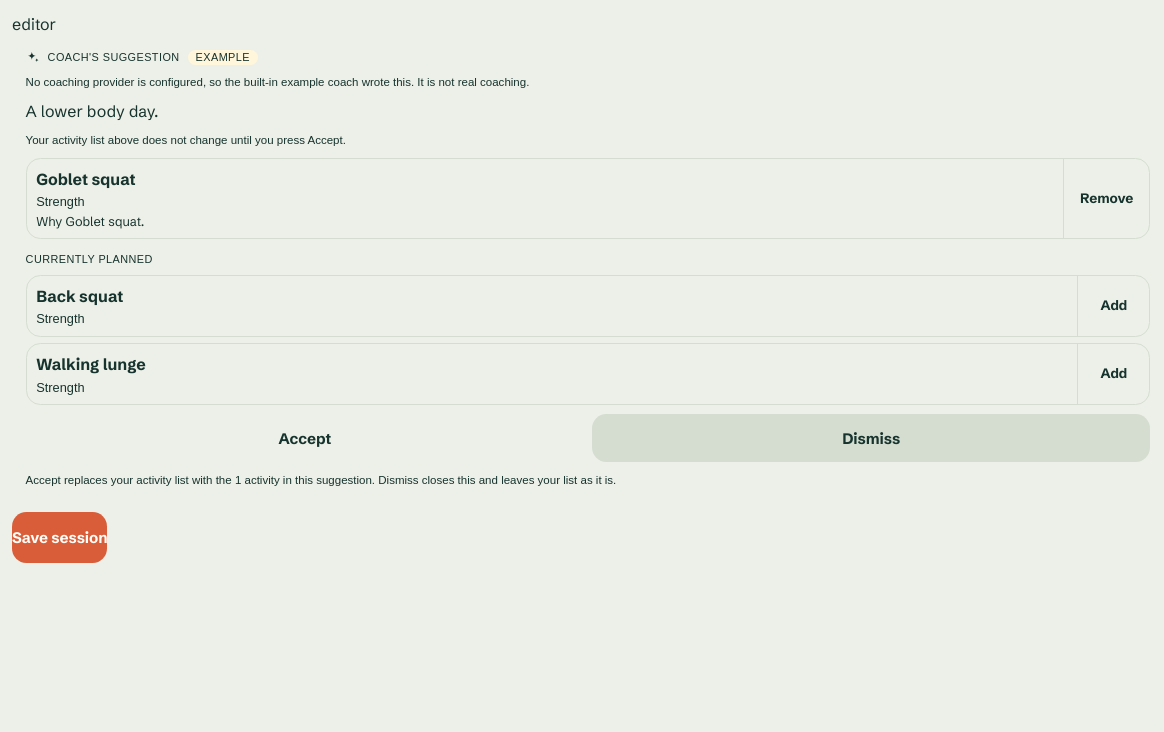
it: FillWithCoach › keeps the suggestion open when the dismissal is refused
Click the button "Dismiss".
click(871, 438)  # box [592,414,1150,462]
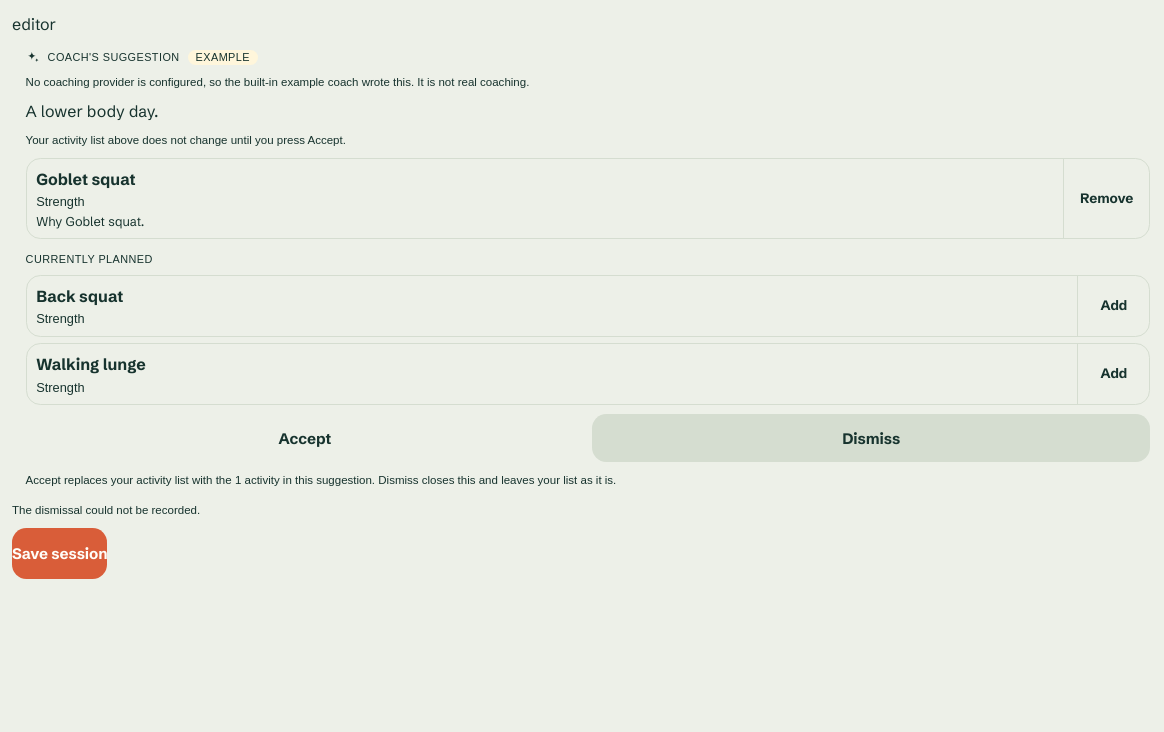
Expected: the text "Goblet squat" is shown, [36,169,136,189]
Result: the message shows "could not be recorded" at [12,504,200,516]
